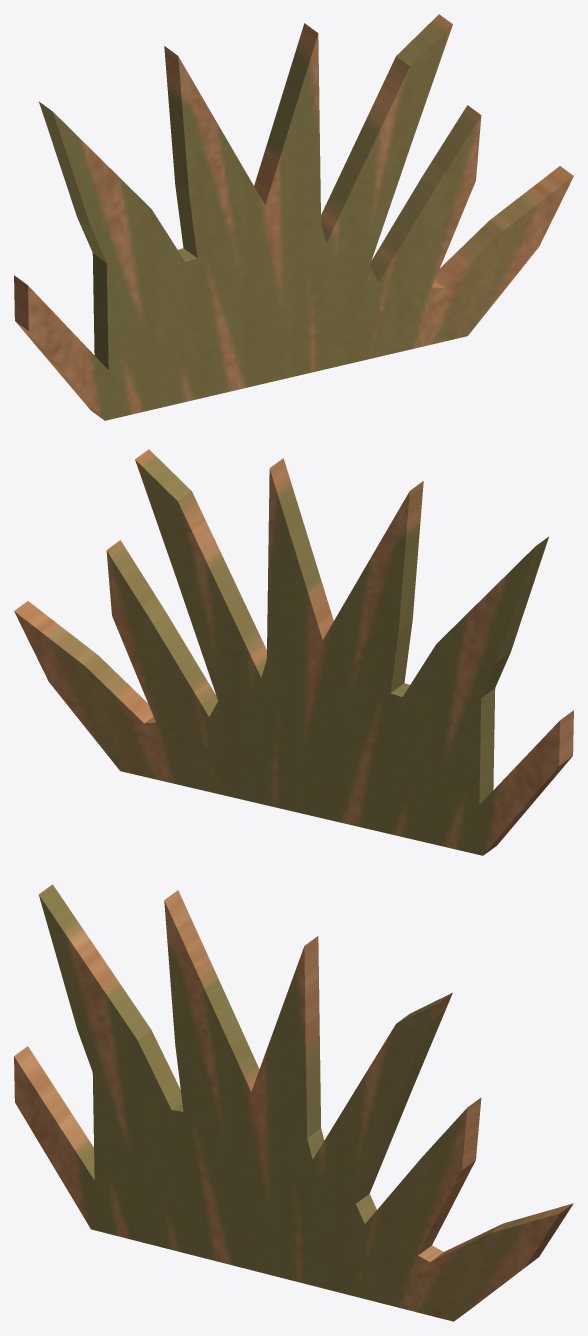
Rendered from bush_3.FBX.
The picture shows the model from 3 angles, top to bottom: view 1: azimuth 30°, elevation 25°; view 2: azimuth 150°, elevation 25°; view 3: azimuth 330°, elevation 25°; orthographic projection.
Parts seen in each view (by area): view 1: bush_3; view 2: bush_3; view 3: bush_3.
Boxes of the visible parts, left/top/right/bottom form: bush_3: left=14, top=14, right=573, bottom=420; bush_3: left=14, top=449, right=573, bottom=855; bush_3: left=14, top=884, right=573, bottom=1321.
Size of the model in its own units: 158 by 96.93 by 7.
Materials: 1 (1 with a texture image).
